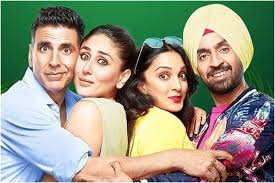Bad: (135, 3, 275, 183), (1, 6, 134, 182)
